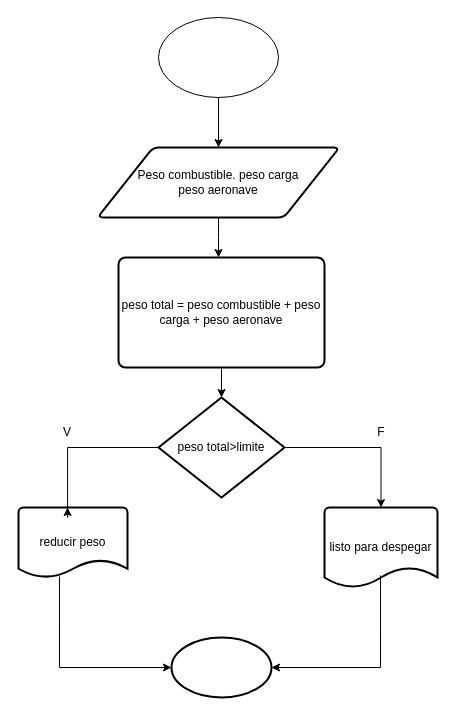
The diagram is 455 pixels wide and 716 high, and some of its shapes have lost their labels. Each missing label, with the box of its shape:
fin: (170, 636, 272, 698)
inicio: (158, 16, 278, 98)
